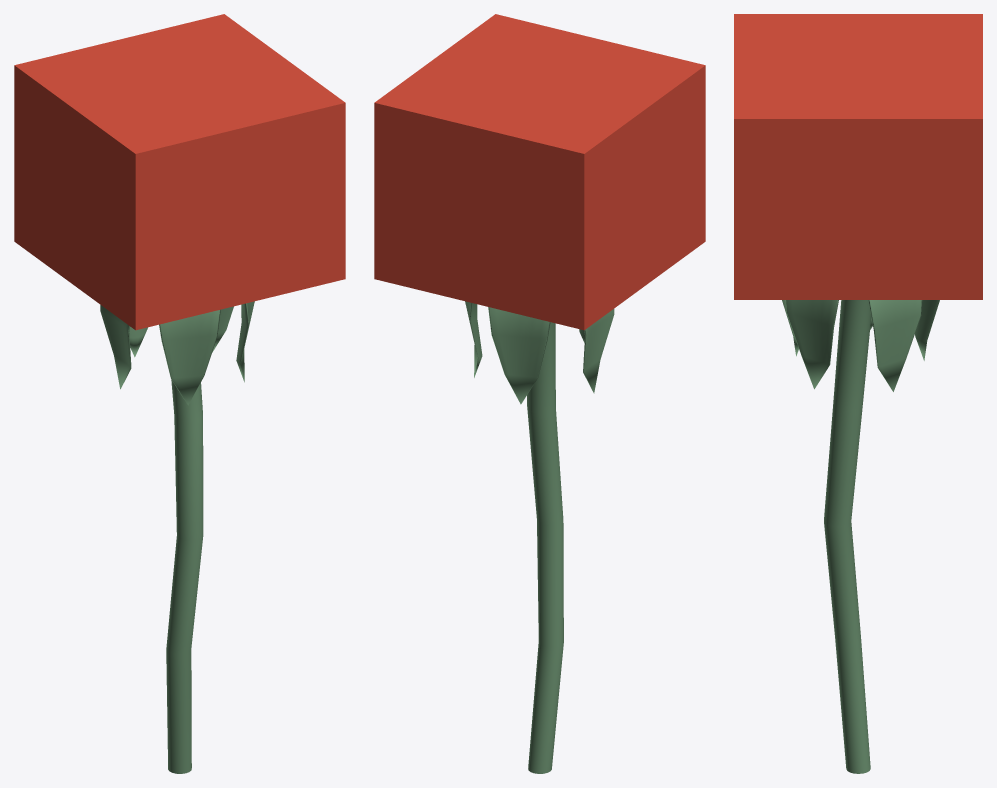
Rendered from RedRose_Low.fbx.
3 renders of one model, left to right at view 1: azimuth 30°, elevation 25°; view 2: azimuth 150°, elevation 25°; view 3: azimuth 270°, elevation 25°, orthographic. The views are drawn at different scales.
Parts seen in each view (by area): view 1: RedRose_Low; view 2: RedRose_Low; view 3: RedRose_Low.
Part boxes in pixels (<box>): RedRose_Low: <box>14,14,345,773</box>; RedRose_Low: <box>374,14,705,773</box>; RedRose_Low: <box>734,14,982,773</box>.
Size of the model in its own units: 2.59 by 8.08 by 2.59.
